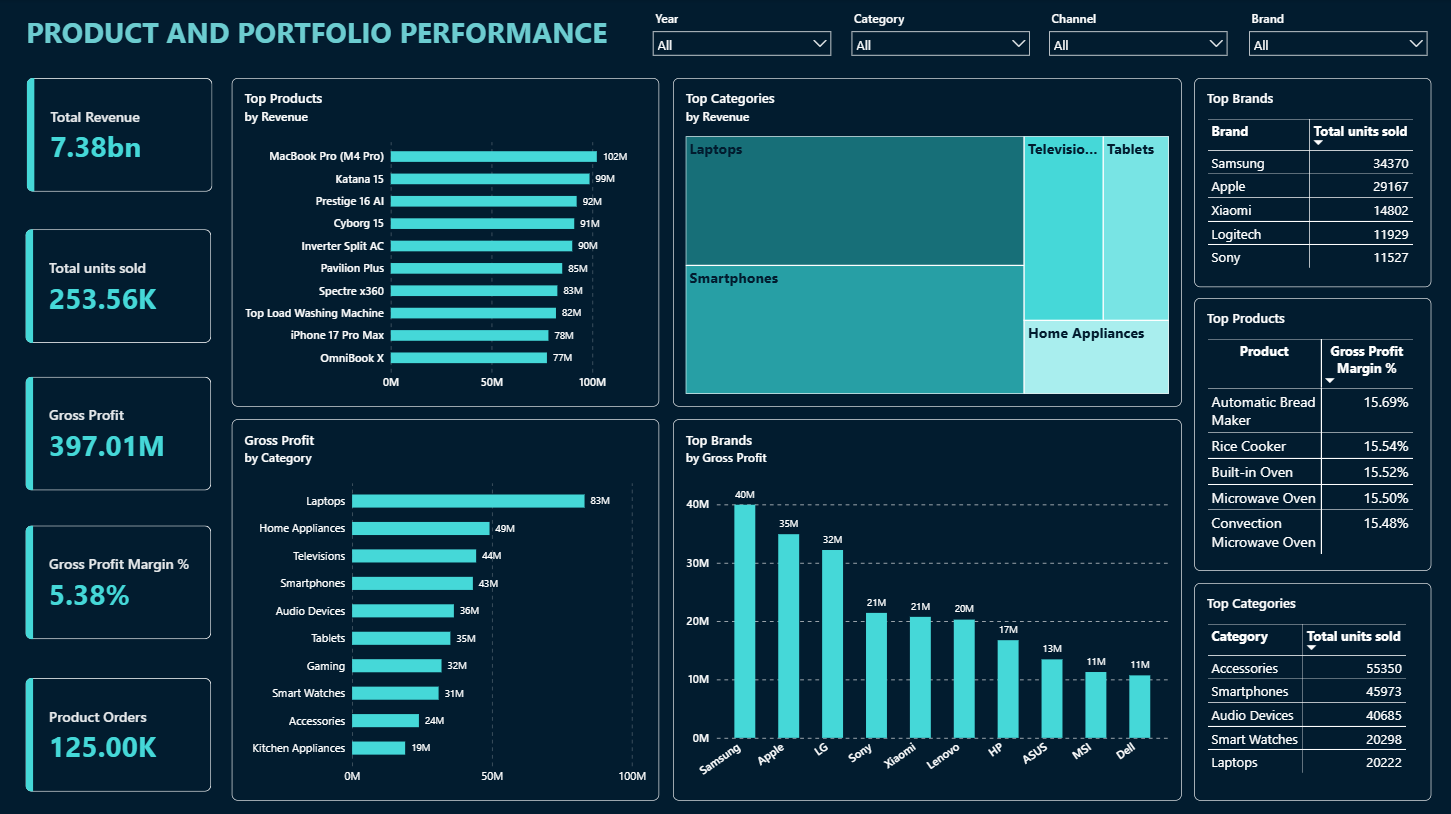

What the dashboard file says about the page in this screenshot:
{"tool":"powerbi","page":{"name":"Product & Portfolio Performance Dashboard","canvas":[1920,1080],"ordinal":2},"visuals":[{"type":"cardVisual","fields":{"Data":["measures table.Total Revenue"]},"box":[37.5,105.4,245,150],"z":0},{"type":"cardVisual","fields":{"Data":["measures table.Total units sold"]},"box":[35.7,305.4,245,150],"z":1000},{"type":"cardVisual","fields":{"Data":["measures table.Gross Profit"]},"box":[35.7,500,245,150],"z":2000},{"type":"cardVisual","fields":{"Data":["measures table.Gross Profit Margin %"]},"box":[35.7,696.4,245,150],"z":3000},{"type":"cardVisual","fields":{"Data":["measures table.Product Orders"]},"box":[35.7,896.4,245,150],"z":4000},{"type":"clusteredBarChart","fields":{"Y":["measures table.Gross Profit"],"Category":["vovers products.category"]},"box":[308.9,555.4,564.1,503.1],"z":5000},{"type":"clusteredBarChart","title":"Top Products","fields":{"Category":["vovers products.product_name"],"Y":["measures table.Total Revenue"]},"box":[308.9,105.4,564.3,433.9],"z":6000},{"type":"clusteredColumnChart","title":"Top Brands","fields":{"Y":["measures table.Gross Profit"],"Category":["vovers products.brand"]},"box":[891.1,555.4,671.4,503.6],"z":7000},{"type":"slicer","fields":{"Values":["date_table.year"]},"box":[858.6,0,245,105],"z":8000},{"type":"slicer","fields":{"Values":["vovers products.category"]},"box":[1121.1,0,245,105],"z":9000},{"type":"slicer","fields":{"Values":["vovers orders.sales_channel"]},"box":[1381.8,0,245,105],"z":10000},{"type":"treemap","title":"Top Categories","fields":{"Values":["measures table.Total Revenue"],"Details":["vovers products.category"]},"box":[891.1,105.4,671.4,433.9],"z":11000},{"type":"slicer","fields":{"Values":["vovers products.brand"]},"box":[1646.4,0,245,105],"z":12000},{"type":"textbox","box":[0,0,841.1,110.7],"z":13000},{"type":"tableEx","title":"Top Products","fields":{"Values":["vovers products.product_name","measures table.Gross Profit Margin %"]},"box":[1578.7,395.2,312.9,360.2],"z":14000},{"type":"tableEx","title":"Top Brands","fields":{"Values":["vovers products.brand","measures table.Total units sold"]},"box":[1578.7,105,312.9,275.8],"z":15000},{"type":"tableEx","title":"Top Categories","fields":{"Values":["vovers products.category","measures table.Total units sold"]},"box":[1578.6,771.4,312.5,287.5],"z":16000}]}

Visuals, with their boxes in screenshot pixels (x1, y1, x2, y2), scaled from the page's 1920x1080 canvas onto the 1451x814 screenshot:
cardVisual - measures table.Total Revenue: [28, 79, 213, 192]
cardVisual - measures table.Total units sold: [27, 230, 212, 343]
cardVisual - measures table.Gross Profit: [27, 377, 212, 490]
cardVisual - measures table.Gross Profit Margin %: [27, 525, 212, 638]
cardVisual - measures table.Product Orders: [27, 676, 212, 789]
clusteredBarChart - measures table.Gross Profit x vovers products.category: [233, 419, 660, 798]
"Top Products" clusteredBarChart: [233, 79, 660, 406]
"Top Brands" clusteredColumnChart: [673, 419, 1181, 798]
slicer - date_table.year: [649, 0, 834, 79]
slicer - vovers products.category: [847, 0, 1032, 79]
slicer - vovers orders.sales_channel: [1044, 0, 1229, 79]
"Top Categories" treemap: [673, 79, 1181, 406]
slicer - vovers products.brand: [1244, 0, 1429, 79]
textbox: [0, 0, 636, 83]
"Top Products" tableEx: [1193, 298, 1430, 569]
"Top Brands" tableEx: [1193, 79, 1430, 287]
"Top Categories" tableEx: [1193, 581, 1429, 798]
